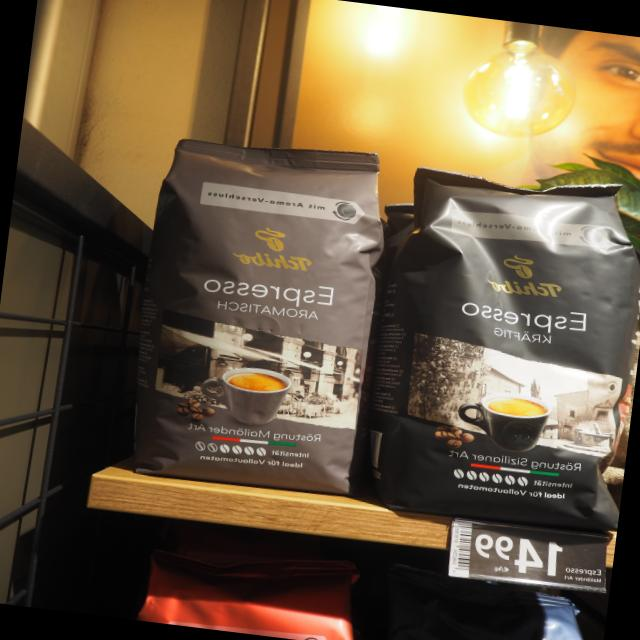Espresso Aromatisch: (111, 123, 398, 500)
Espresso Kraftig: (358, 149, 640, 539)
